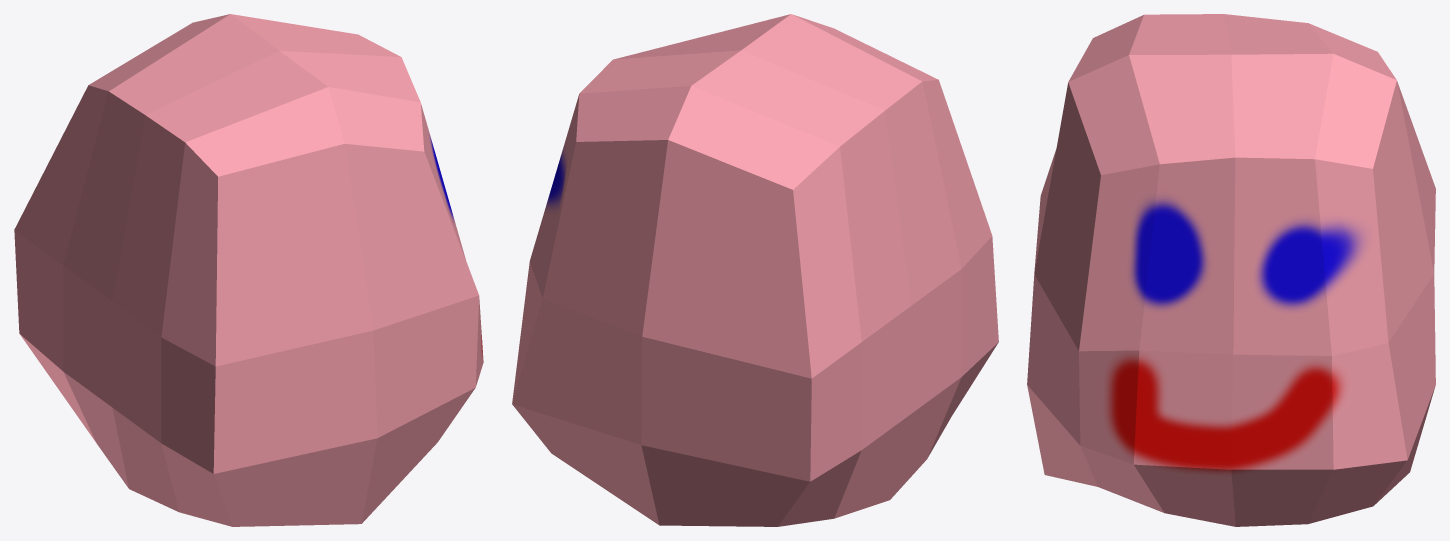
File: head.gltf
3 views of the same model, side by side, from view 1: azimuth 30°, elevation 25°; view 2: azimuth 150°, elevation 25°; view 3: azimuth 270°, elevation 25° (orthographic). The views are drawn at different scales.
Visible parts, largest first — view 1: Cube; view 2: Cube; view 3: Cube.
Boxes of the visible parts, x1,y1,x2,y2 form: Cube: [14, 14, 483, 526]; Cube: [512, 14, 998, 526]; Cube: [1027, 14, 1435, 526].
Size of the model in its own units: 3.17 by 3.83 by 3.21.
1 material, 1 textured.
